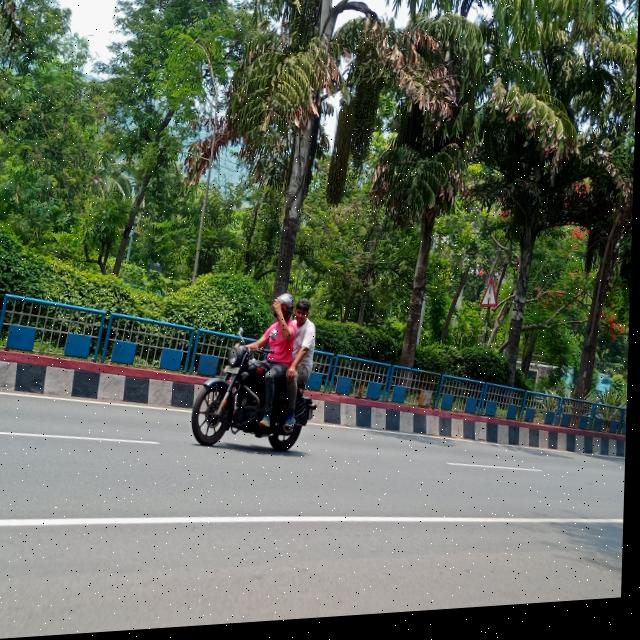bike: (189, 340, 325, 465)
